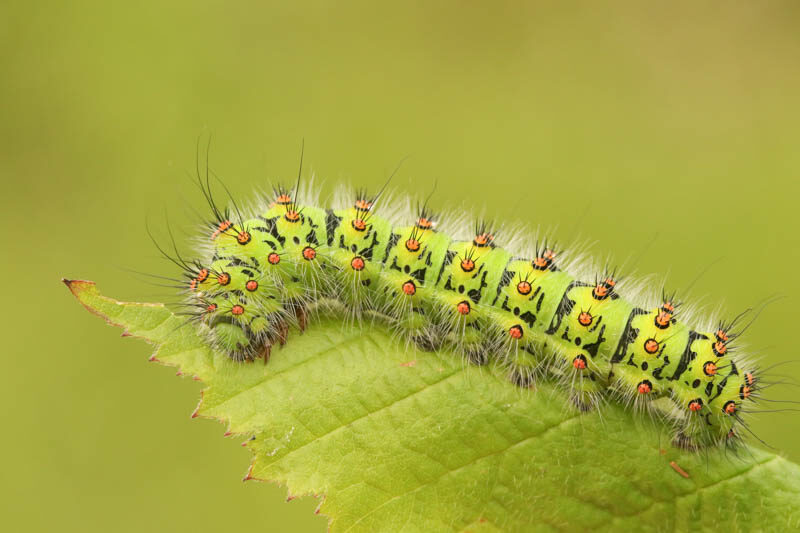Caterpillar: (163, 139, 769, 448)
